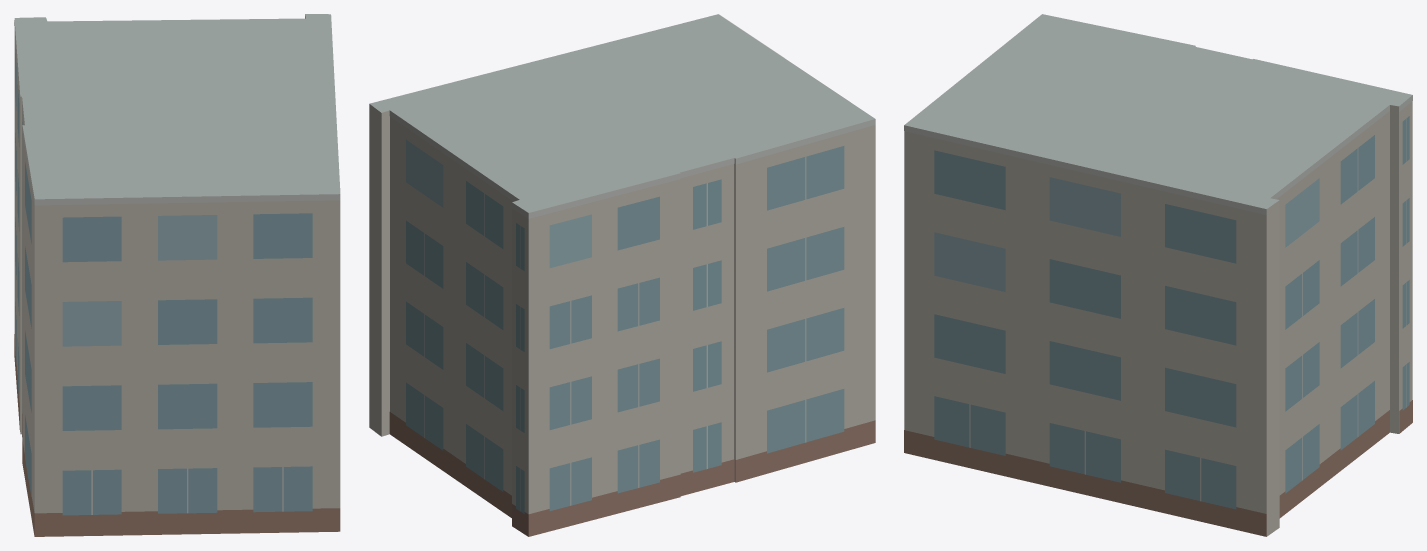
Rendered from survey-upis-32652166.glb.
3 renders of one model, left to right at view 1: azimuth 30°, elevation 25°; view 2: azimuth 150°, elevation 25°; view 3: azimuth 270°, elevation 25°, orthographic. The views are drawn at different scales.
Visible parts, largest first — view 1: survey-upis-32652166.tmp; view 2: survey-upis-32652166.tmp; view 3: survey-upis-32652166.tmp.
Boxes of the visible parts, <box> form: survey-upis-32652166.tmp: <box>14,14,340,536</box>; survey-upis-32652166.tmp: <box>369,14,875,536</box>; survey-upis-32652166.tmp: <box>904,14,1412,536</box>.
Bounding box in the file's own units: 17.19 × 13.45 × 18.93.
